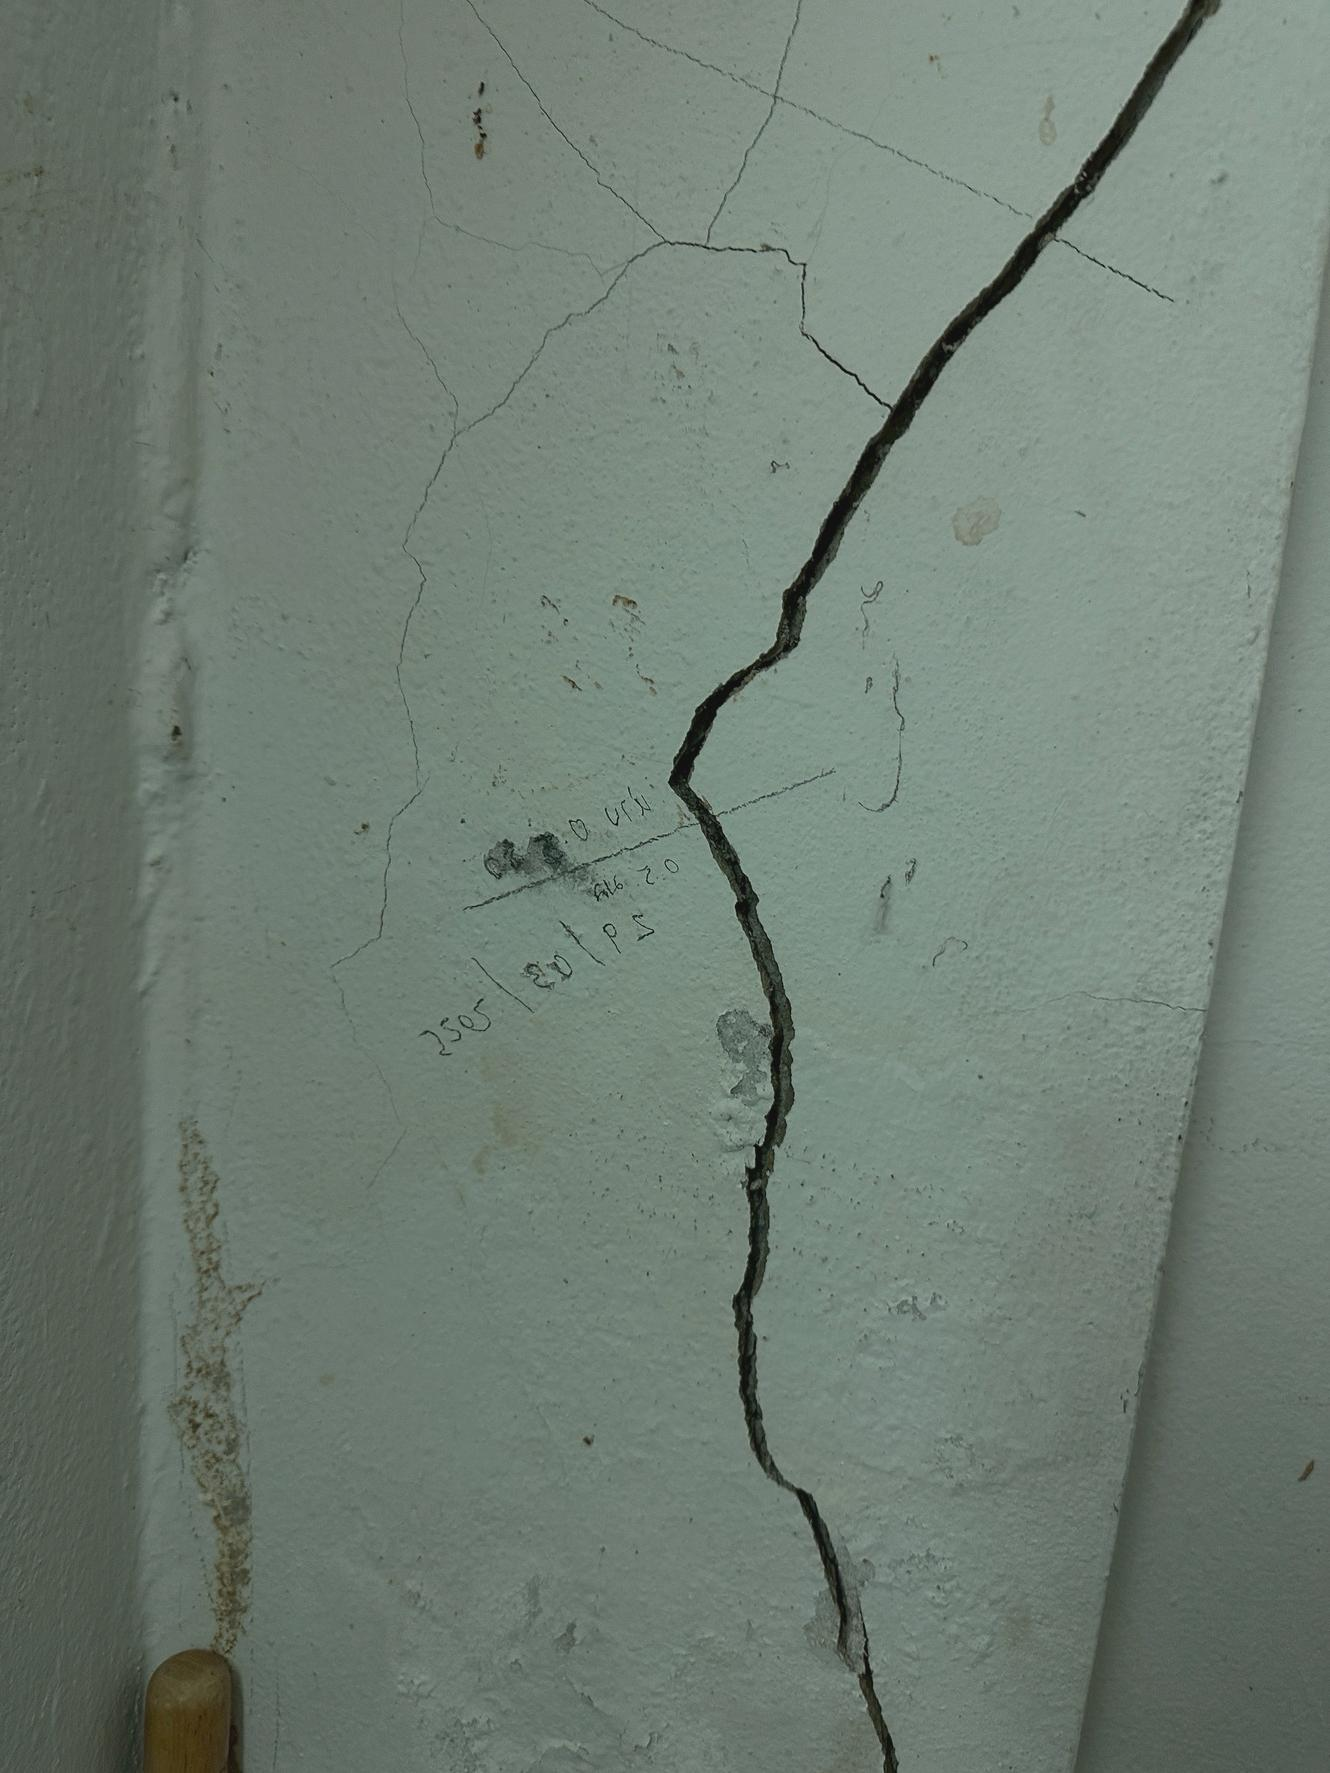High: (525, 6, 1238, 1773)
